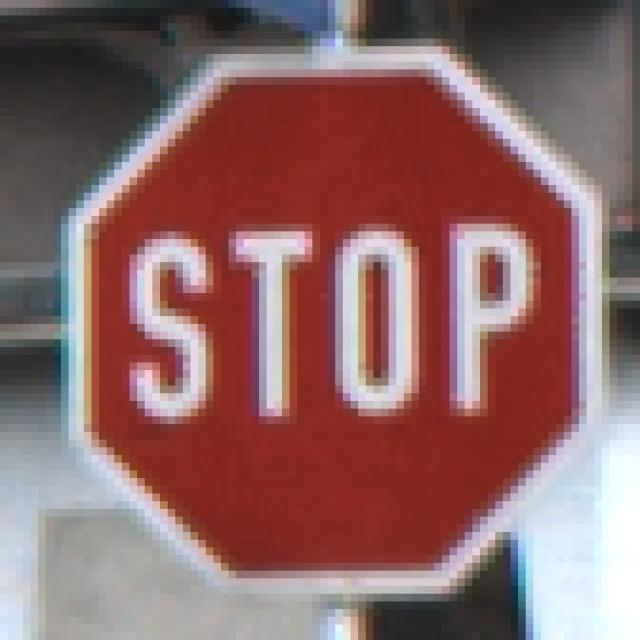stop: (44, 44, 618, 602)
